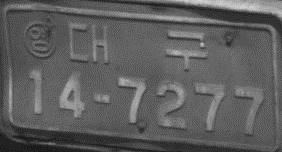-: (89, 89, 114, 113)
1: (21, 66, 54, 115)
2: (155, 78, 187, 129)
4: (58, 72, 86, 117)
7: (193, 80, 226, 132), (233, 85, 264, 135), (116, 75, 146, 123)
대구_D: (67, 21, 208, 70)
영: (22, 19, 58, 58)
